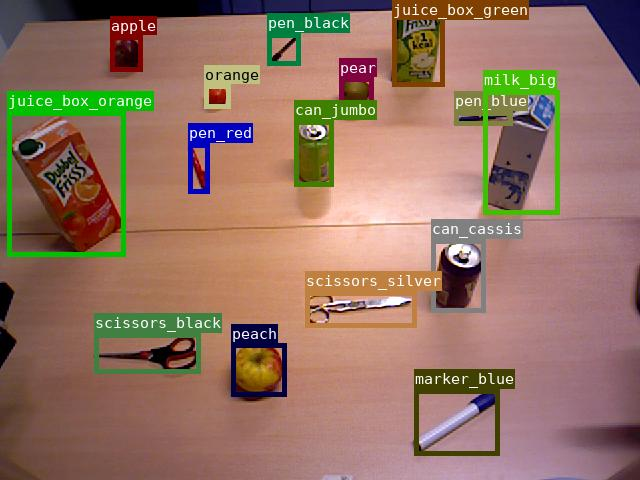apple: (110, 35, 142, 71)
can_cassis: (431, 239, 485, 312)
can_jumbo: (294, 120, 333, 186)
juice_box_green: (392, 0, 444, 86)
juice_box_orange: (7, 111, 125, 256)
marker_blue: (414, 389, 499, 455)
milk_big: (483, 90, 559, 214)
orange: (204, 84, 230, 108)
peach: (231, 343, 286, 396)
pear: (339, 77, 373, 109)
pen_black: (267, 33, 300, 65)
pen_blue: (454, 111, 512, 125)
pen_red: (188, 143, 209, 193)
scissors_black: (94, 333, 200, 373)
scissors_silver: (305, 291, 416, 327)
